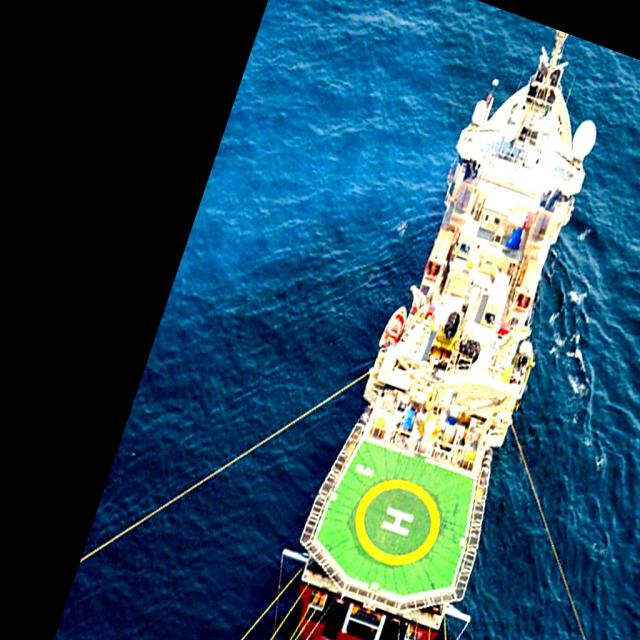helipad: (349, 474, 442, 570)
